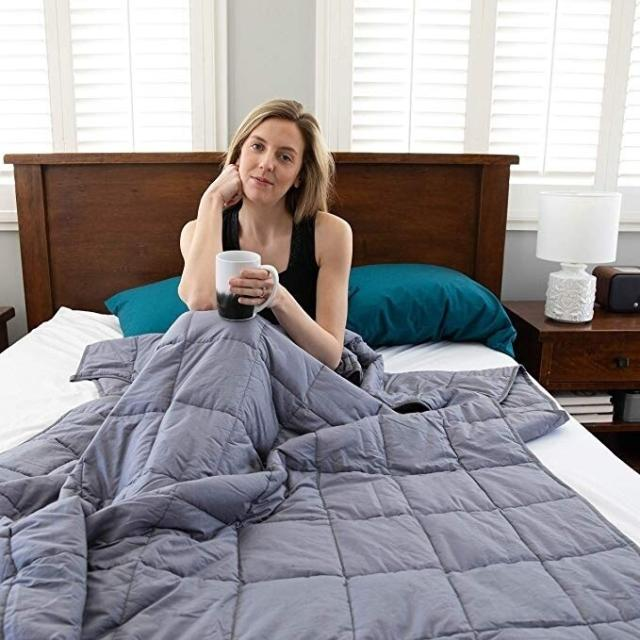blanket: (1, 314, 640, 640)
